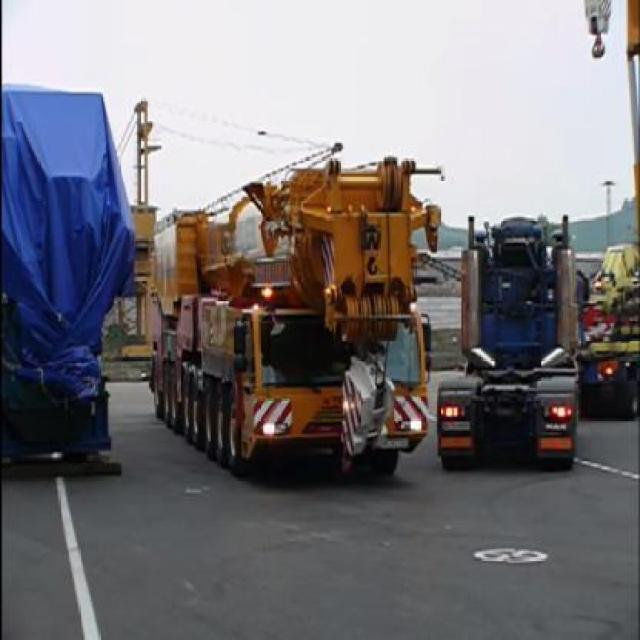Mobile Crane: (146, 164, 442, 482)
